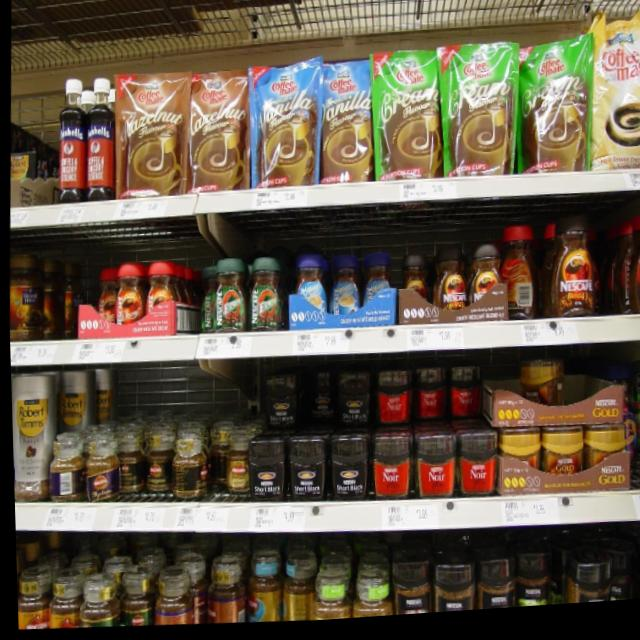q13: (549, 226, 600, 328)
